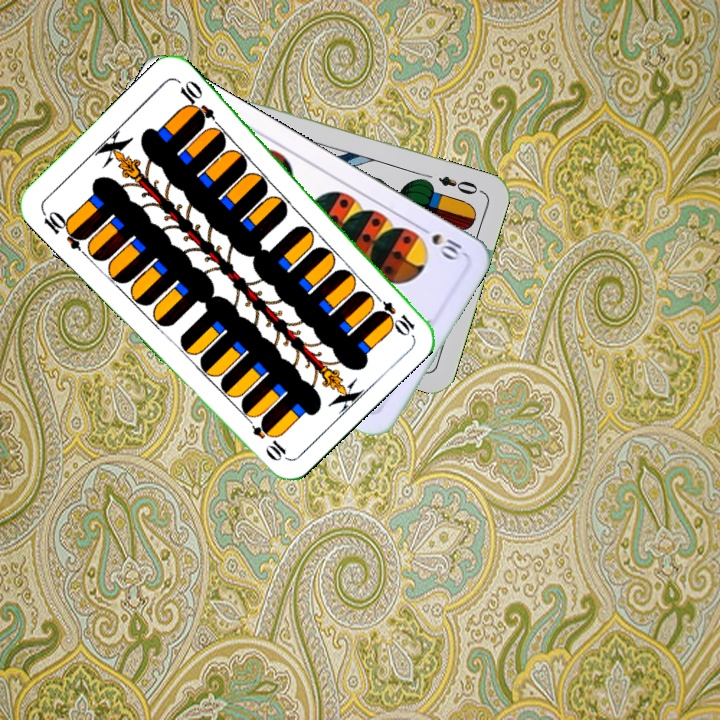E10: (38, 206, 90, 253), (369, 289, 418, 336)
EO: (434, 171, 485, 198)
S10: (414, 221, 468, 263)
